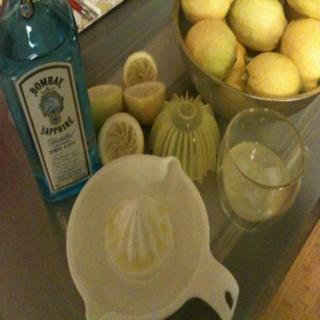Lemon: (182, 0, 319, 114), (98, 111, 144, 165), (125, 79, 166, 123), (87, 84, 125, 126), (122, 49, 158, 84)
